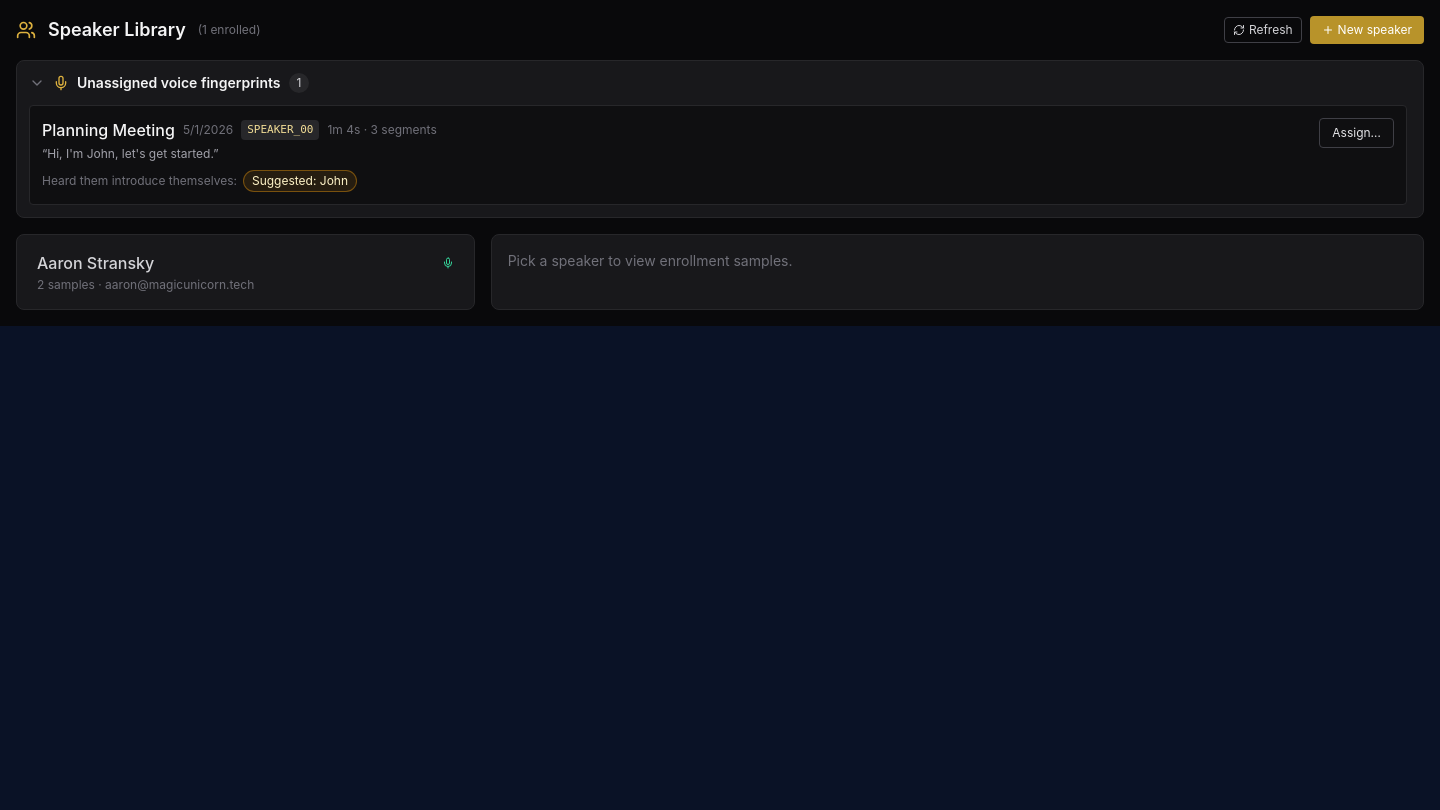
Test case: SpeakerLibrary self-introduction suggestions › prefills the create-speaker name on click WITHOUT firing an assign/create
Click the button "Suggested: John": (300, 181) [243,170,357,192]
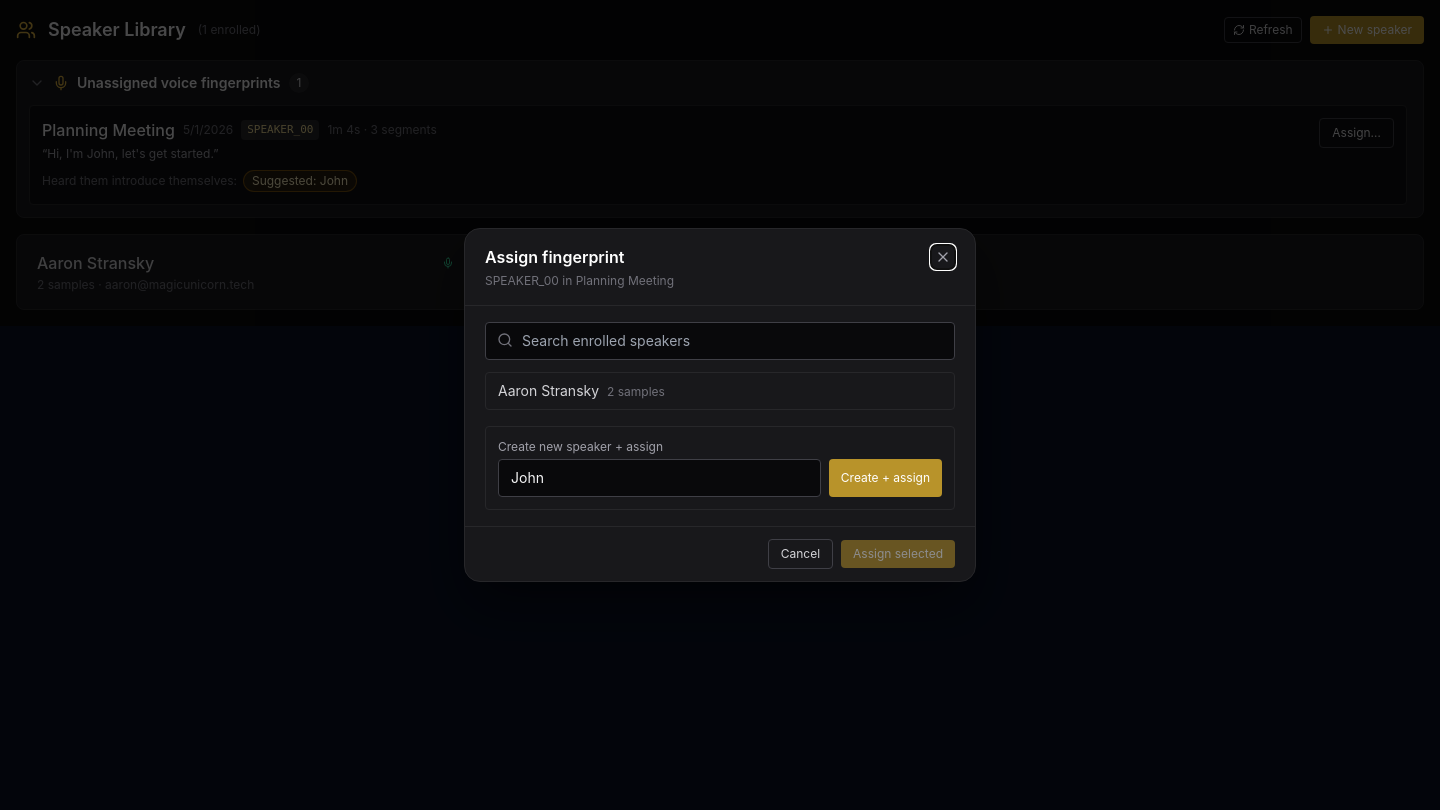
expect the field with placeholder "New speaker name" holds "John": met, box [498,459,821,497]
